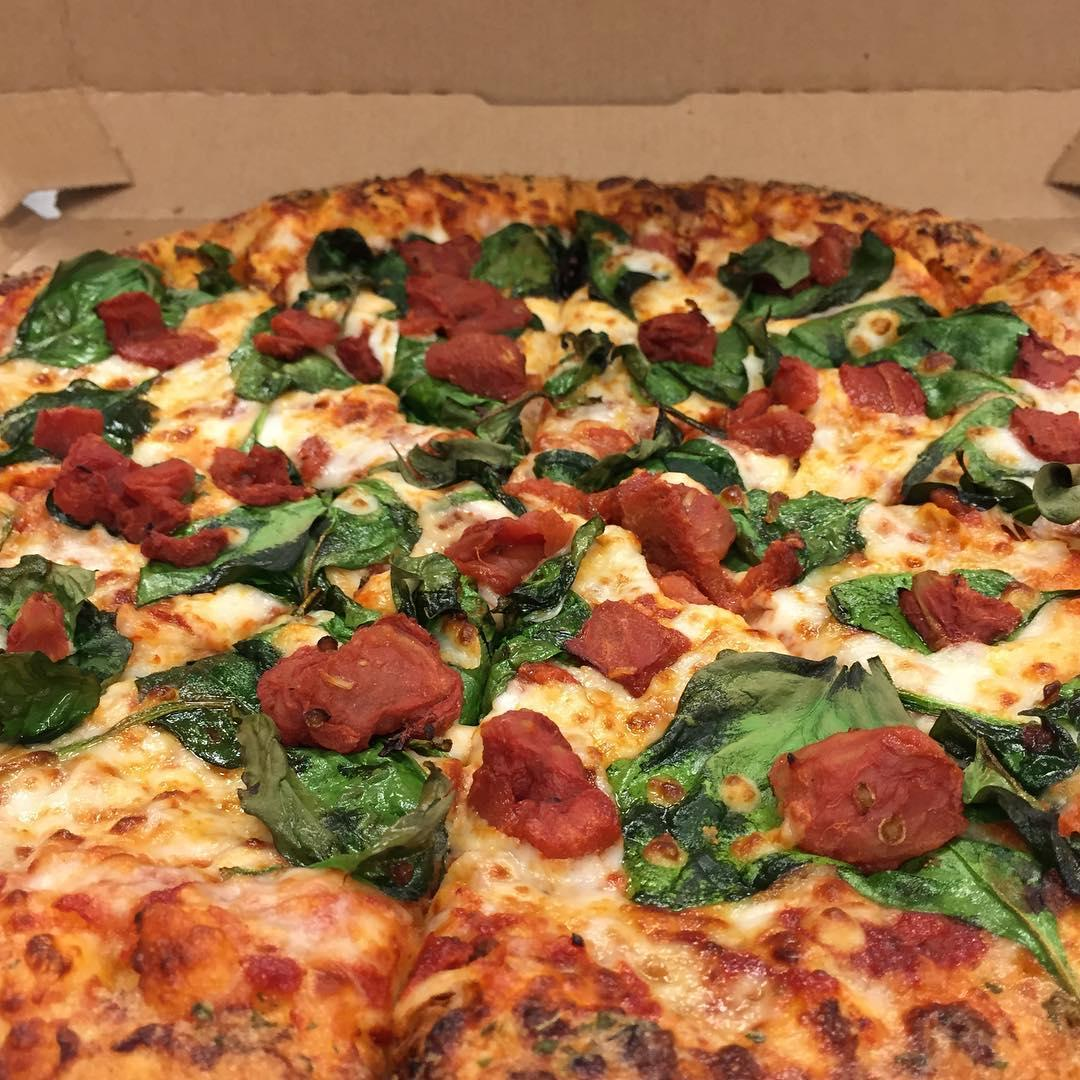Basil: (613, 655, 1080, 973), (244, 742, 458, 919), (208, 499, 457, 614), (20, 248, 198, 366), (757, 304, 1026, 363), (390, 333, 518, 442), (466, 578, 575, 705), (558, 334, 749, 401), (0, 382, 163, 456), (481, 223, 632, 300), (545, 428, 738, 486), (0, 651, 118, 743), (733, 486, 856, 570), (825, 573, 933, 652), (305, 223, 403, 308), (719, 239, 818, 314), (223, 352, 353, 396), (404, 442, 517, 489), (922, 364, 1015, 415)
Pizza: (0, 163, 1080, 1080)
